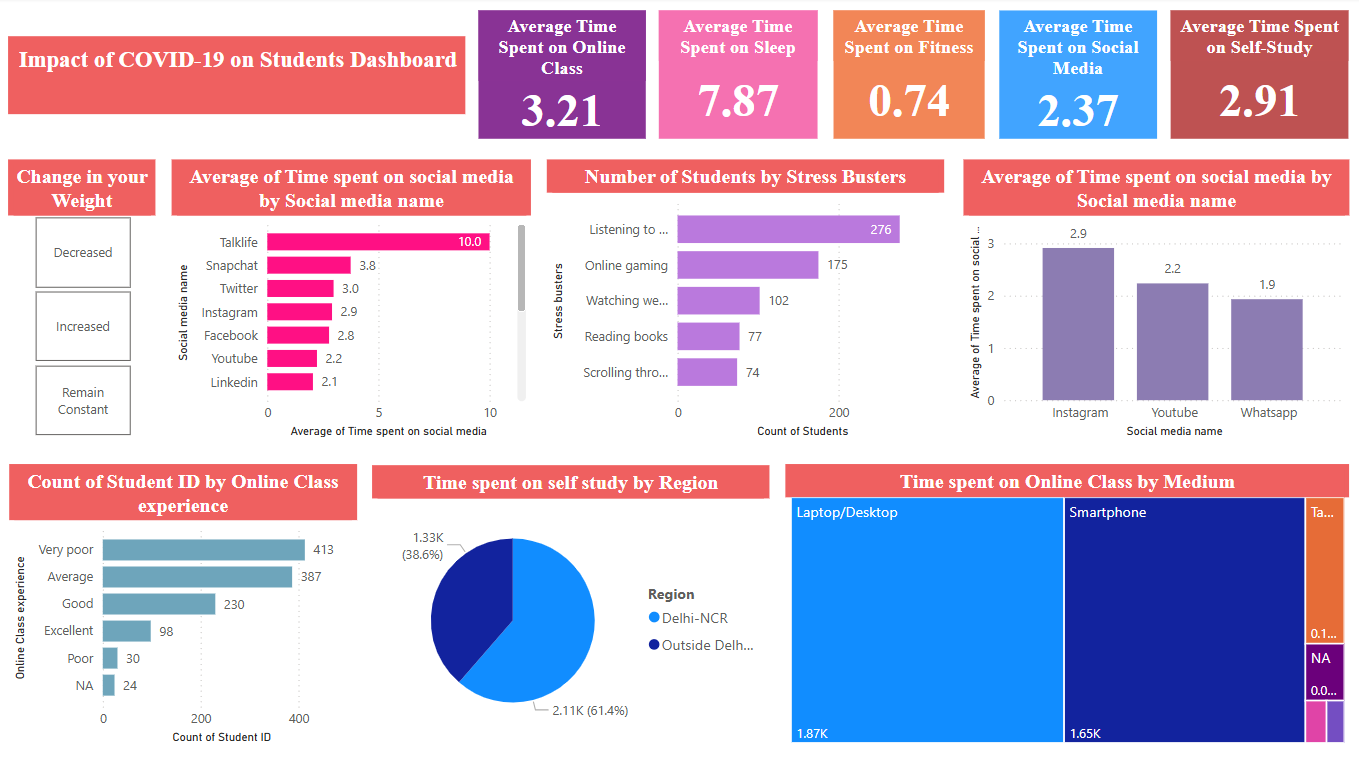

The page's visual inventory and layout, read from the dashboard file:
{"tool":"powerbi","page":{"name":"Page 1","canvas":[1280,720],"ordinal":0},"visuals":[{"type":"textbox","box":[9.1,36.4,429.8,72.8],"z":0},{"type":"card","title":"Average Time Spent on Online Class ","fields":{"Values":["Avg(Student_Survey.Time spent on Online Class)"]},"box":[451.4,12.5,156.9,120.5],"z":1000},{"type":"card","title":"Average Time Spent on Sleep","fields":{"Values":["Avg(Student_Survey.Time spent on sleep)"]},"box":[620.9,12.5,149,120.5],"z":2000},{"type":"card","title":"Average Time Spent on Fitness","fields":{"Values":["Avg(Student_Survey.Time spent on fitness)"]},"box":[784.6,12.5,142.1,120.5],"z":3000},{"type":"card","title":"Average Time Spent on Social Media","fields":{"Values":["Avg(Student_Survey.Time spent on social media)"]},"box":[940.4,12.5,147.8,120.5],"z":4000},{"type":"barChart","title":"Number of Students by Stress Busters","fields":{"Category":["Student_Survey.Stress busters"],"Y":["CountNonNull(Student_Survey.Student ID)"]},"box":[515.1,152.4,373,266.1],"z":5000},{"type":"treemap","title":"Time spent on Online Class by Medium","fields":{"Group":["Student_Survey.Medium for online class"],"Values":["Sum(Student_Survey.Time spent on Online Class)"]},"box":[739.1,438.9,529.9,267.2],"z":6000},{"type":"barChart","fields":{"Category":["Student_Survey.Online Class experience"],"Y":["CountNonNull(Student_Survey.Student ID)"]},"box":[10.2,438.9,326.4,267.2],"z":7000},{"type":"pieChart","title":"Time spent on self study by Region","fields":{"Y":["Sum(Student_Survey.Time spent on self study)"],"Category":["Student_Survey.Region of residence"]},"box":[351.4,440.1,373,266.1],"z":8000},{"type":"columnChart","fields":{"Category":["Student_Survey.Social media name"],"Y":["Avg(Student_Survey.Time spent on social media)"]},"box":[906.3,152.4,362.7,266.1],"z":9000},{"type":"barChart","fields":{"Category":["Student_Survey.Social media name"],"Y":["Avg(Student_Survey.Time spent on social media)"]},"box":[162.6,152.4,337.7,266.1],"z":10000},{"type":"slicer","title":"Change in your Weight","fields":{"Values":["Student_Survey.Change in your weight"]},"box":[9.1,152.4,138.7,266.1],"z":11000},{"type":"card","title":"Average Time Spent on Self-Study","fields":{"Values":["Avg(Student_Survey.Time spent on self study)"]},"box":[1101.9,12.5,167.2,120.5],"z":12000}]}

Visuals, with their boxes in screenshot pixels (x1, y1, x2, y2), scaled from the page's 1280x720 canvas onto the 1359x759 screenshot:
textbox: Rect(10, 38, 466, 115)
"Average Time Spent on Online Class " card: Rect(479, 13, 646, 140)
"Average Time Spent on Sleep" card: Rect(659, 13, 817, 140)
"Average Time Spent on Fitness" card: Rect(833, 13, 984, 140)
"Average Time Spent on Social Media" card: Rect(998, 13, 1155, 140)
"Number of Students by Stress Busters" barChart: Rect(547, 161, 943, 441)
"Time spent on Online Class by Medium" treemap: Rect(785, 463, 1347, 744)
barChart - Student_Survey.Online Class experience x CountNonNull(Student_Survey.Student ID): Rect(11, 463, 357, 744)
"Time spent on self study by Region" pieChart: Rect(373, 464, 769, 744)
columnChart - Student_Survey.Social media name x Avg(Student_Survey.Time spent on social media): Rect(962, 161, 1347, 441)
barChart - Student_Survey.Social media name x Avg(Student_Survey.Time spent on social media): Rect(173, 161, 531, 441)
"Change in your Weight" slicer: Rect(10, 161, 157, 441)
"Average Time Spent on Self-Study" card: Rect(1170, 13, 1347, 140)
